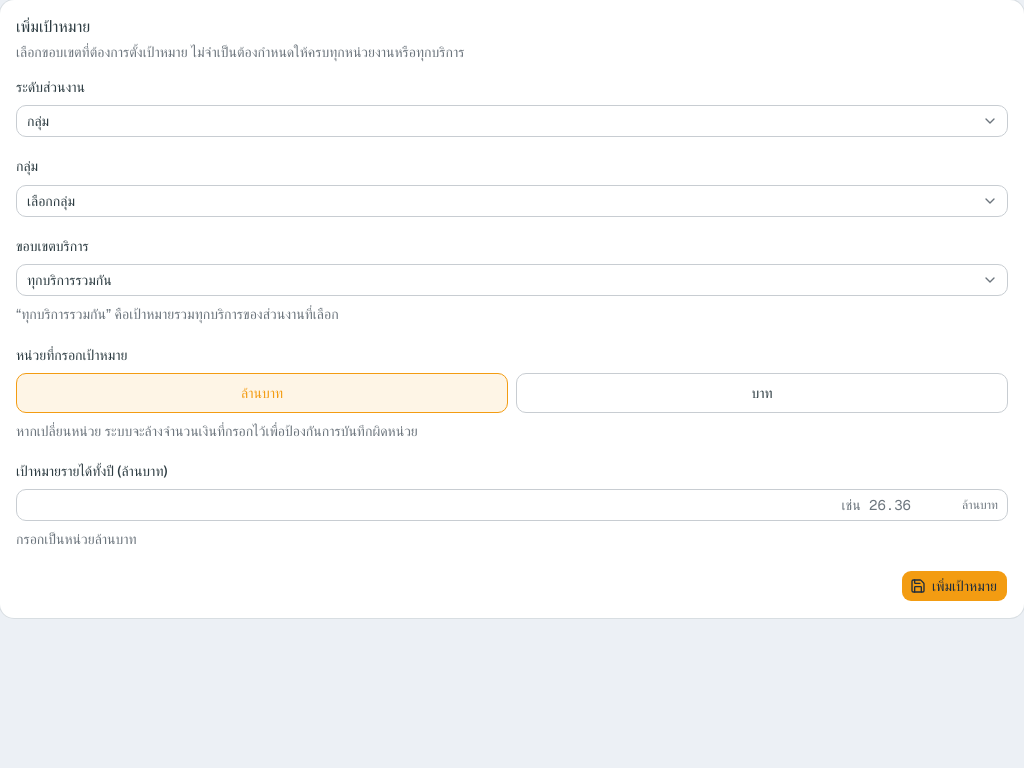
Test: RevenueTargetForm › previews million-baht input as an exact baht amount
The image size is (1024, 768).
Expected: the radio button labelled "ล้านบาท" is checked, [16, 373, 508, 413]
Type "26.36" into the field labelled "เป้าหมายรายได้ทั้งปี (ล้านบาท)". click: point(512, 505)
box: [16, 489, 1008, 521]
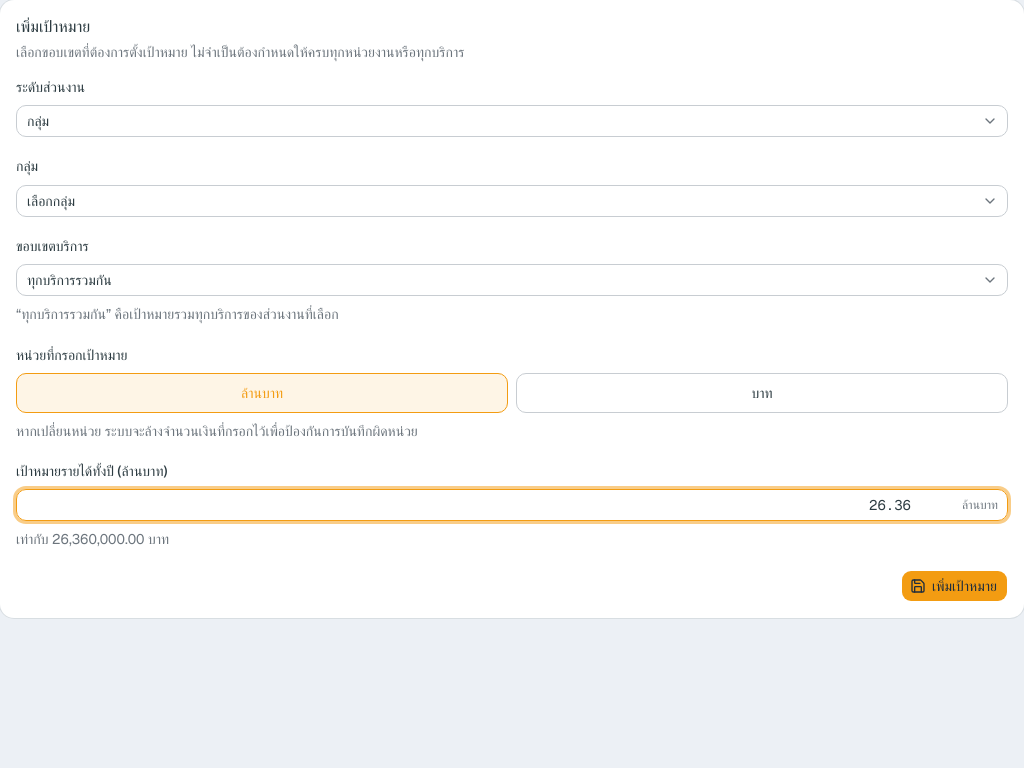
Expected: the text "เท่ากับ 26,360,000.00 บาท" is shown, [16, 530, 169, 548]
